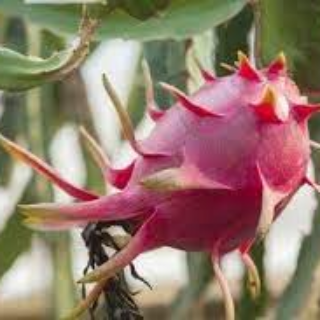thanh_long: (93, 59, 308, 258)
